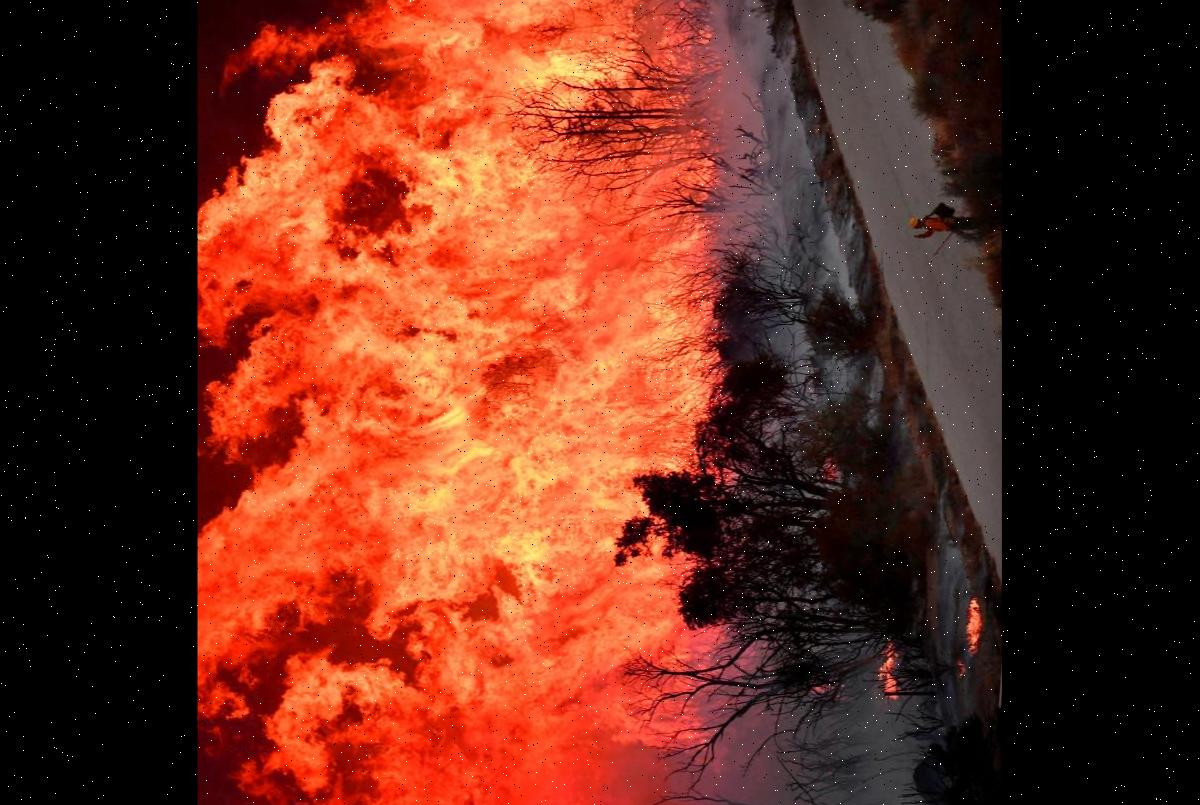fire: (197, 0, 812, 805)
